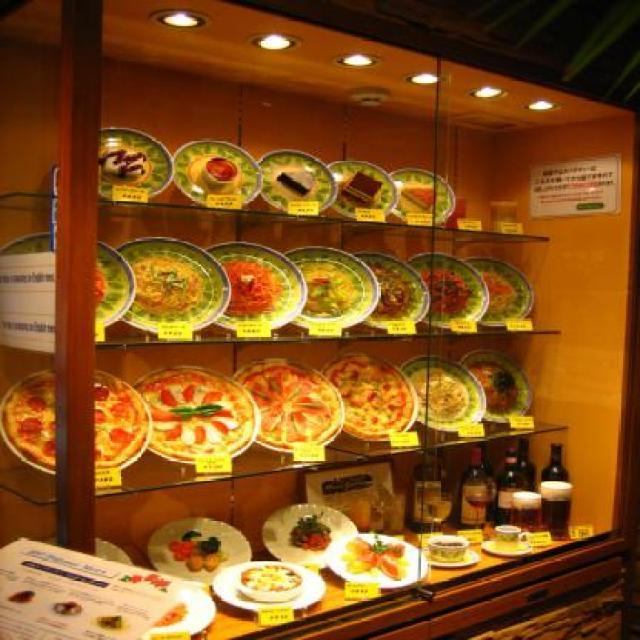Pizza: (2, 368, 160, 474), (128, 366, 258, 468), (231, 359, 334, 453), (319, 354, 416, 436), (128, 254, 210, 320), (216, 252, 294, 318), (470, 358, 538, 420), (408, 370, 476, 426), (308, 258, 362, 314), (364, 262, 412, 324), (419, 266, 481, 314), (482, 272, 526, 316)
